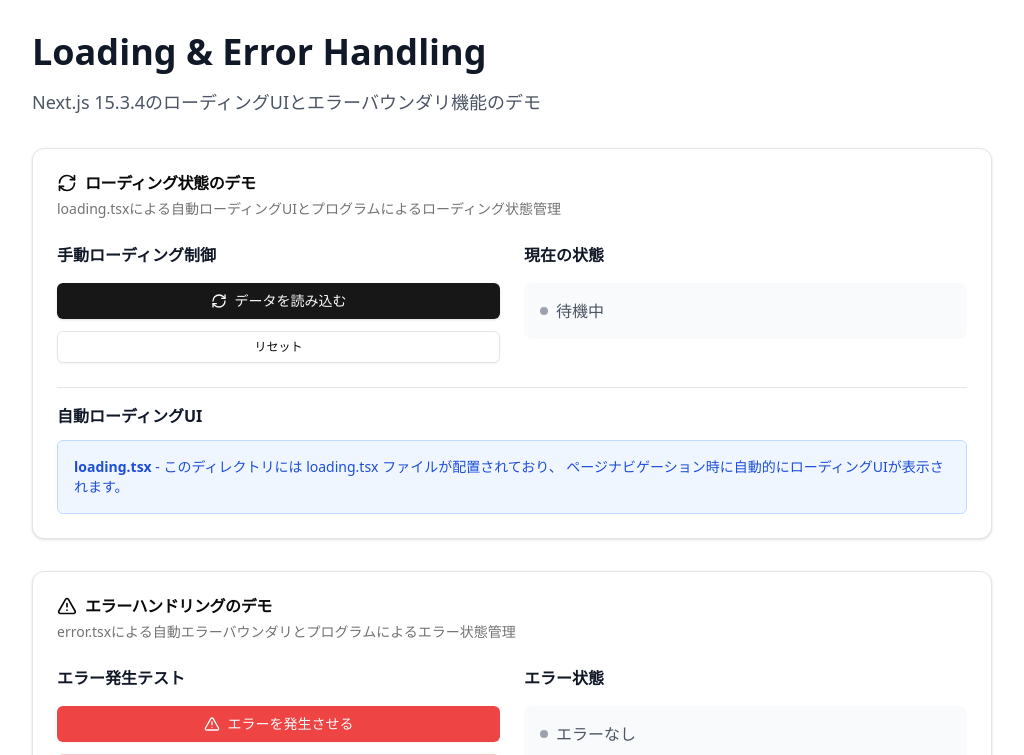
Loading Error Page › エラーを発生させるボタンが動作すべき
This screenshot has width=1024, height=755.
Click the button "エラーを発生させる". click: (278, 724)
box: [57,706,500,742]
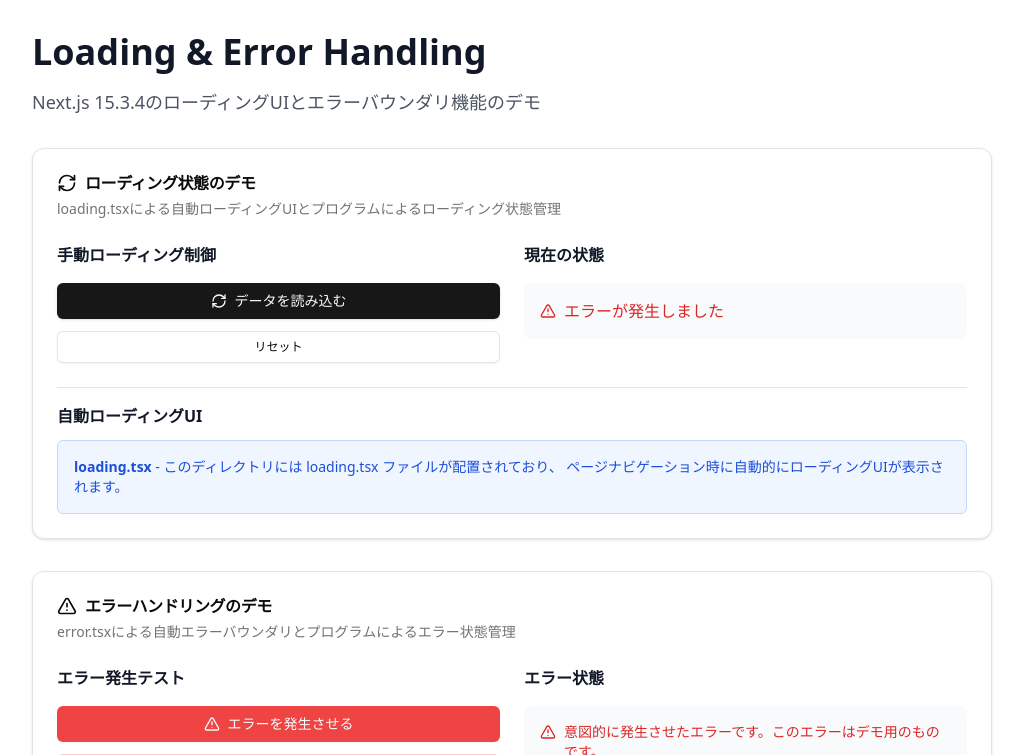
Expected: the text "エラーが発生しました" is shown, [540,300,724,322]
